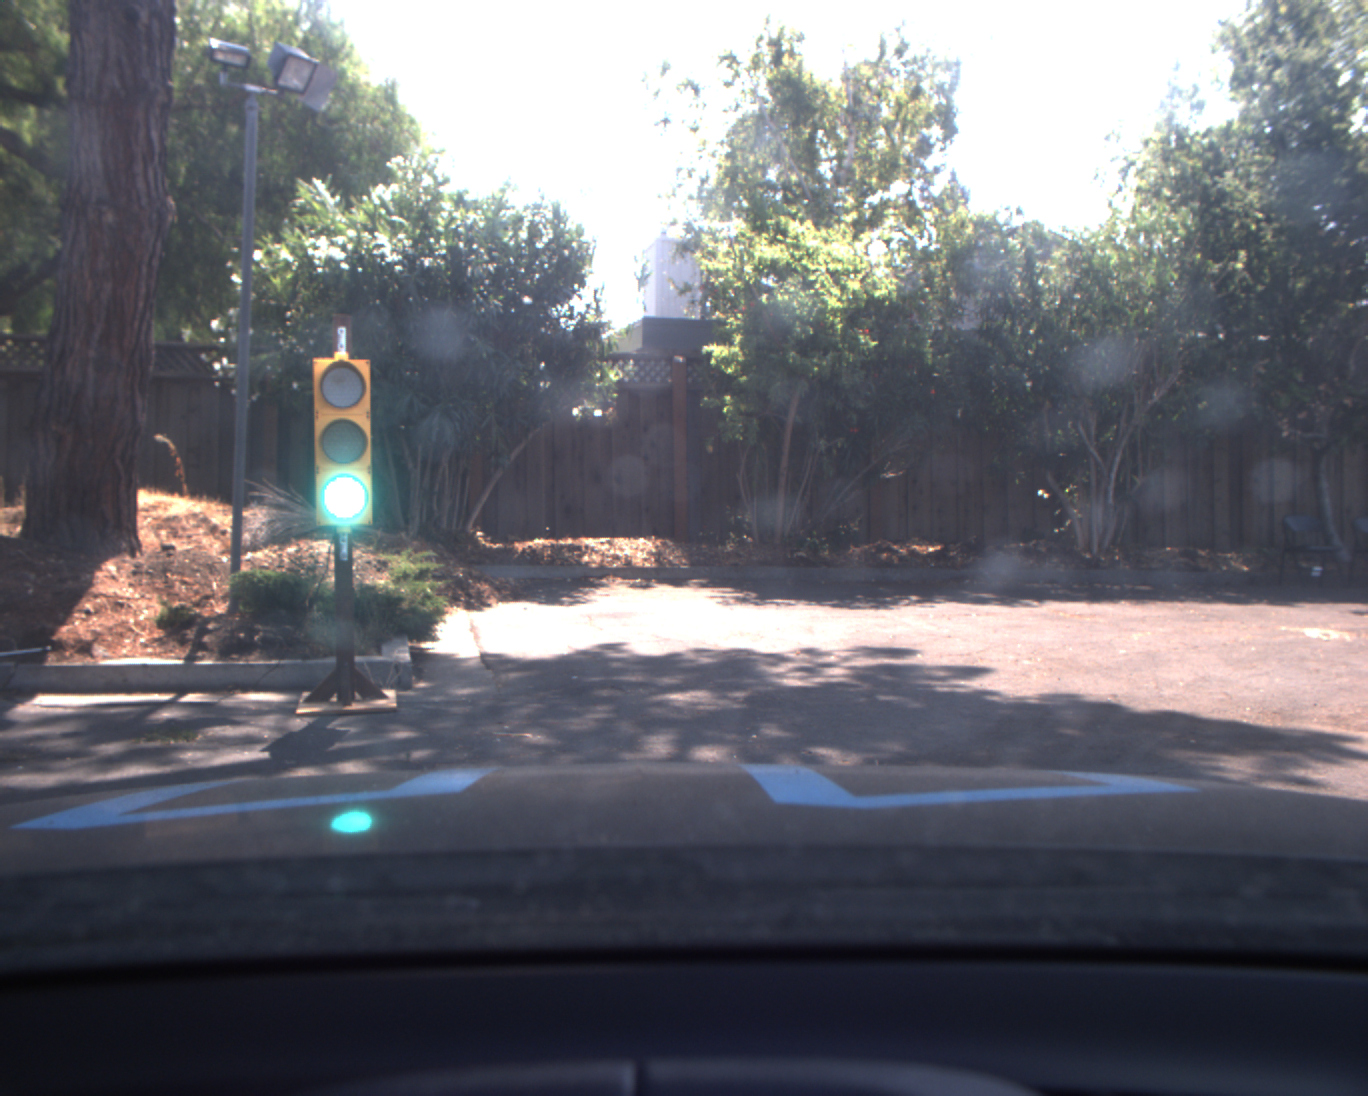green: (310, 349, 378, 533)
